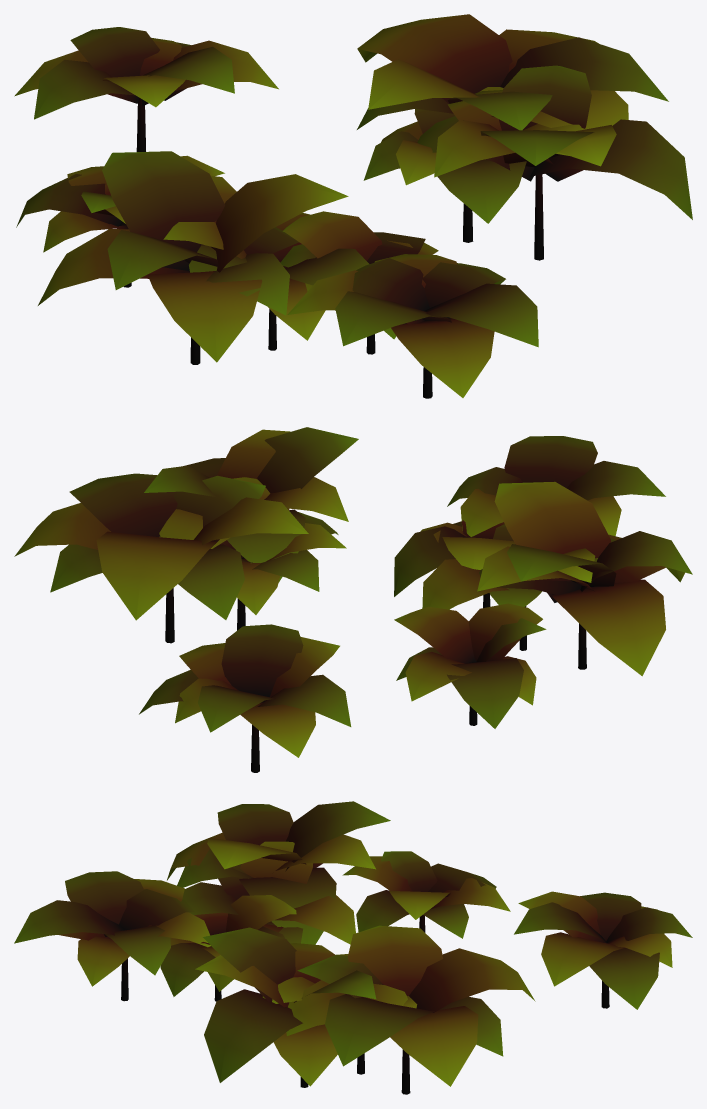
Rendered from patch_banana_far.glb.
The picture shows the model from 3 angles, top to bottom: view 1: azimuth 30°, elevation 25°; view 2: azimuth 150°, elevation 25°; view 3: azimuth 270°, elevation 25°; orthographic projection. The views are drawn at different scales.
Visible parts, largest first — view 1: patch_banana_far; view 2: patch_banana_far; view 3: patch_banana_far.
Boxes of the visible parts, left/top/right/bottom form: patch_banana_far: left=14, top=14, right=692, bottom=398; patch_banana_far: left=14, top=427, right=692, bottom=772; patch_banana_far: left=14, top=801, right=692, bottom=1094.
Size of the model in its own units: 11.12 by 2.78 by 12.85.
1 material, 1 textured.
